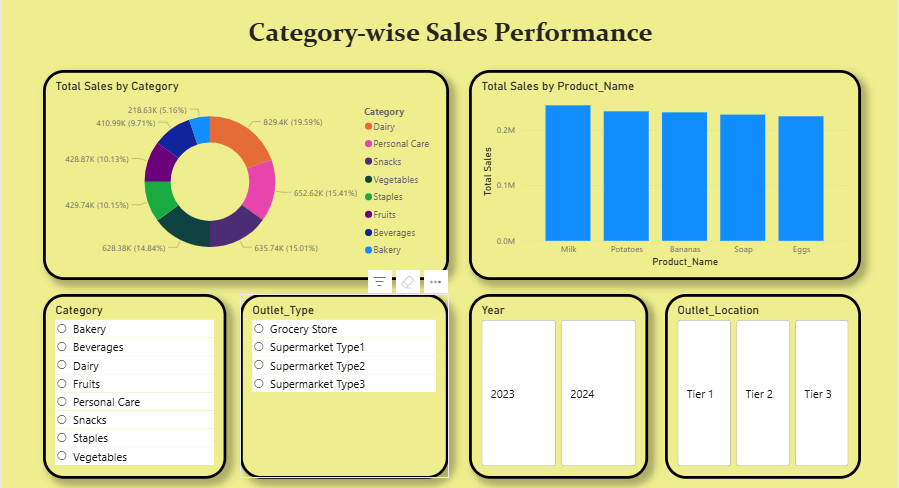

This screenshot's page, from the dashboard's own definition file:
{"tool":"powerbi","page":{"name":"Category-wise Sales Performance","canvas":[1280,720],"ordinal":1},"visuals":[{"type":"donutChart","fields":{"Category":["Blinkit.Category"],"Y":["Blinkit.Total Sales"]},"box":[60,108,580,300],"z":0},{"type":"clusteredColumnChart","fields":{"Category":["Blinkit.Product_Name"],"Y":["Blinkit.Total Sales"]},"box":[668,108,560,300],"z":1000},{"type":"listSlicer","fields":{"Values":["Blinkit.Category"]},"box":[60,428,262,264],"z":2000},{"type":"listSlicer","fields":{"Values":["Blinkit.Outlet_Type"]},"box":[342,428,298,264],"z":3000},{"type":"advancedSlicerVisual","fields":{"Values":["Blinkit.Order_Date.Variation.Date Hierarchy.Year"]},"box":[668,428,256,264],"z":4000},{"type":"advancedSlicerVisual","fields":{"Values":["Blinkit.Outlet_Location"]},"box":[948,428,280,264],"z":5000},{"type":"textbox","box":[100,26,1084,62],"z":6000}]}

Visuals, with their boxes in screenshot pixels (x1, y1, x2, y2):
donutChart - Blinkit.Category x Blinkit.Total Sales: <region>46, 70, 447, 277</region>
clusteredColumnChart - Blinkit.Product_Name x Blinkit.Total Sales: <region>467, 70, 854, 277</region>
listSlicer - Blinkit.Category: <region>46, 291, 227, 474</region>
listSlicer - Blinkit.Outlet_Type: <region>241, 291, 447, 474</region>
advancedSlicerVisual - Blinkit.Order_Date.Variation.Date Hierarchy.Year: <region>467, 291, 644, 474</region>
advancedSlicerVisual - Blinkit.Outlet_Location: <region>660, 291, 854, 474</region>
textbox: <region>74, 13, 823, 56</region>
